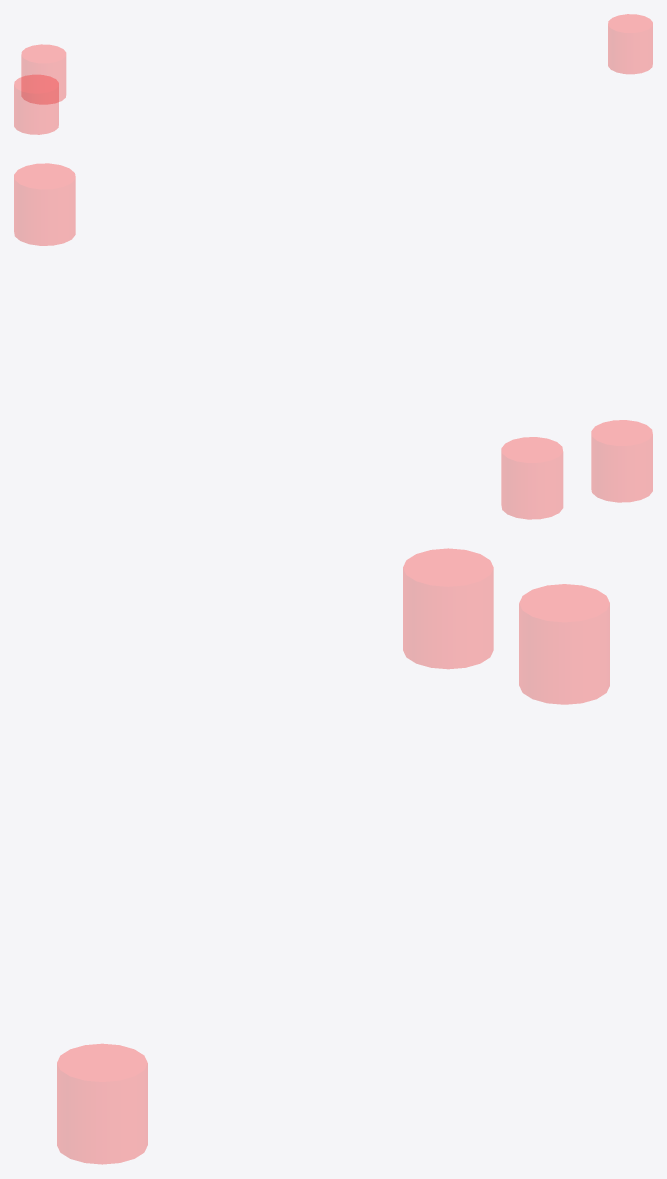
File: s03b_nc2-obstacles.glb
3 renders of one model, top to bottom at view 1: azimuth 30°, elevation 25°; view 2: azimuth 150°, elevation 25°; view 3: azimuth 270°, elevation 25°, orthographic. The views are drawn at different scales.
Parts seen in each view (by area): view 1: boulder-colonly (×3); view 2: boulder-colonly (×3); view 3: boulder-colonly (×3).
Boxes of the visible parts, x1,y1,x2,y2 form: boulder-colonly (×3): (14,14,652,134); boulder-colonly (×3): (14,163,652,519); boulder-colonly (×3): (57,548,609,1164).
Size of the model in its own units: 27.77 by 2 by 12.17.
